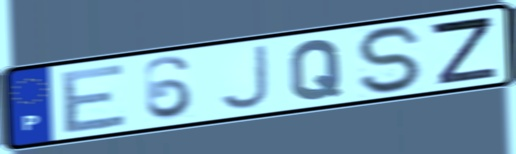6: (141, 54, 194, 123)
E: (59, 60, 131, 137)
J: (215, 42, 272, 113)
Q: (287, 37, 344, 103)
S: (353, 24, 428, 96)
Z: (426, 14, 501, 87)
